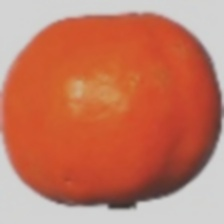tangerine: (55, 26, 194, 224)
